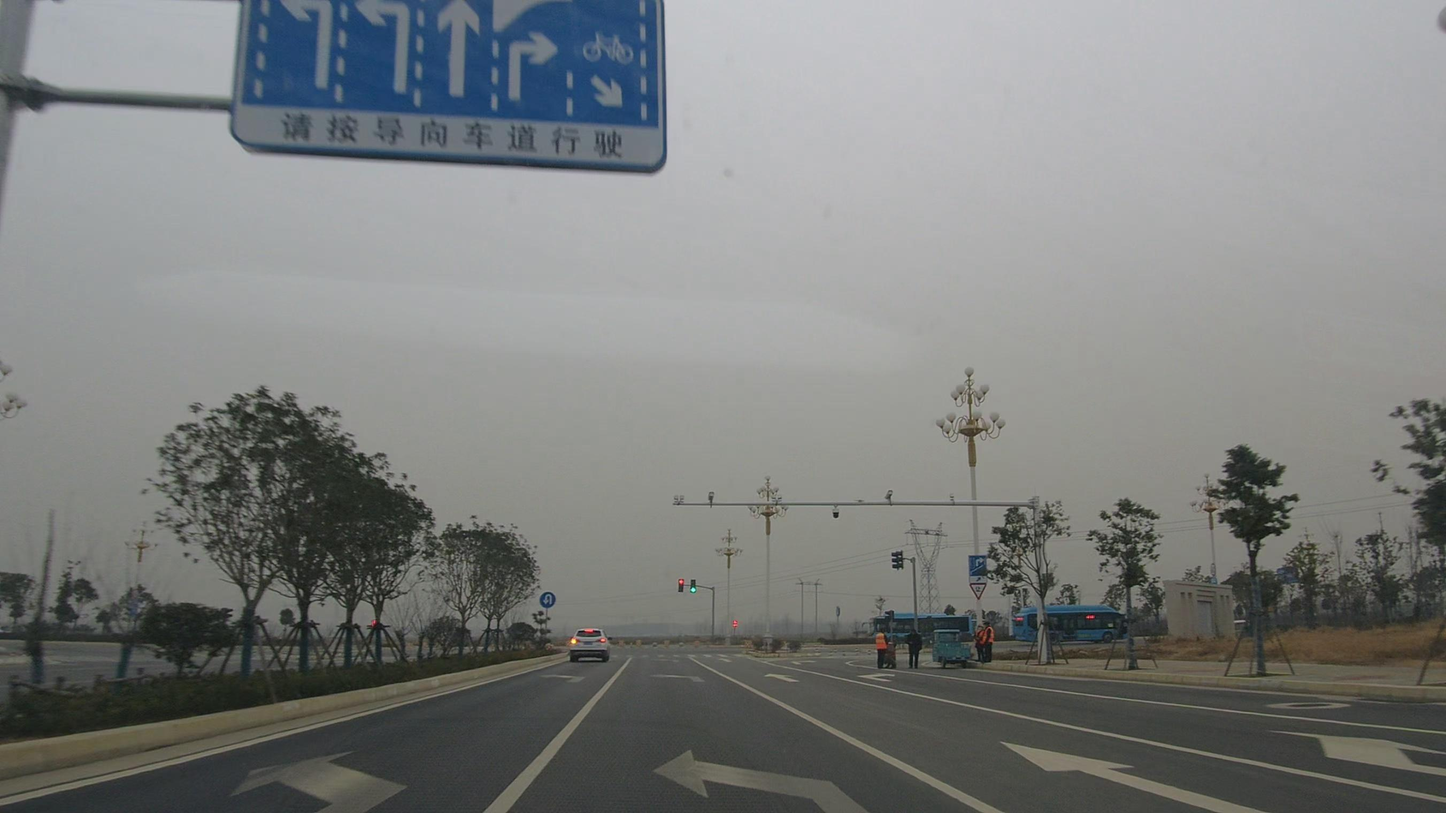green_light: (667, 566, 694, 609)
red_light: (684, 571, 707, 604)
